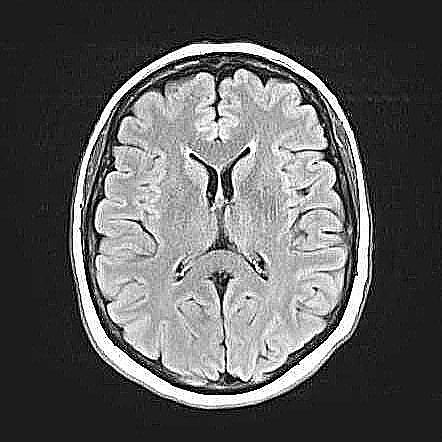Normal_Brain: (5, 7, 442, 442)
